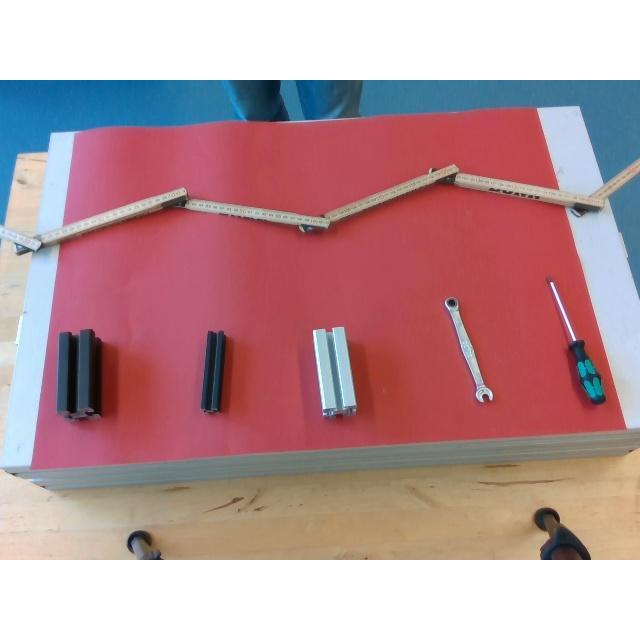F20_20_B: (202, 330, 225, 410)
S40_40_B: (58, 329, 102, 418)
S40_40_G: (313, 326, 355, 416)
Screwdriver: (545, 272, 607, 403)
Wrench: (445, 298, 491, 402)
